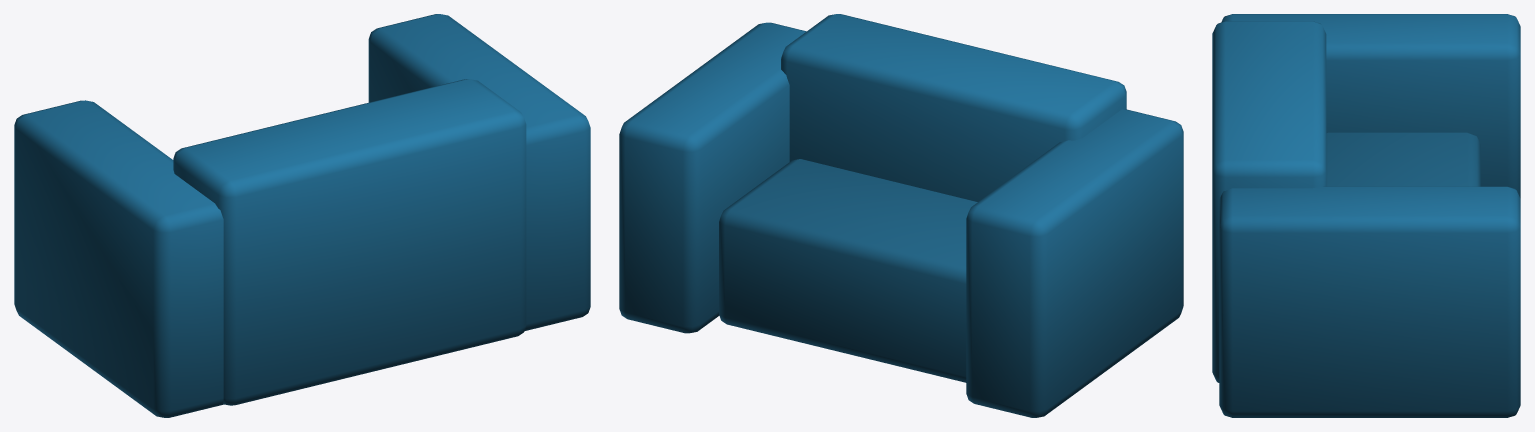
Rendered from SM_s-sofa.fbx.
3 renders of one model, left to right at view 1: azimuth 30°, elevation 25°; view 2: azimuth 150°, elevation 25°; view 3: azimuth 270°, elevation 25°, orthographic. The views are drawn at different scales.
Visible parts, largest first — view 1: Cube.003; view 2: Cube.003; view 3: Cube.003.
Part boxes in pixels (bbox=[...]): Cube.003: bbox=[14, 14, 590, 417]; Cube.003: bbox=[619, 14, 1183, 417]; Cube.003: bbox=[1212, 14, 1520, 417].
Size of the model in its own units: 184 by 90.55 by 113.
